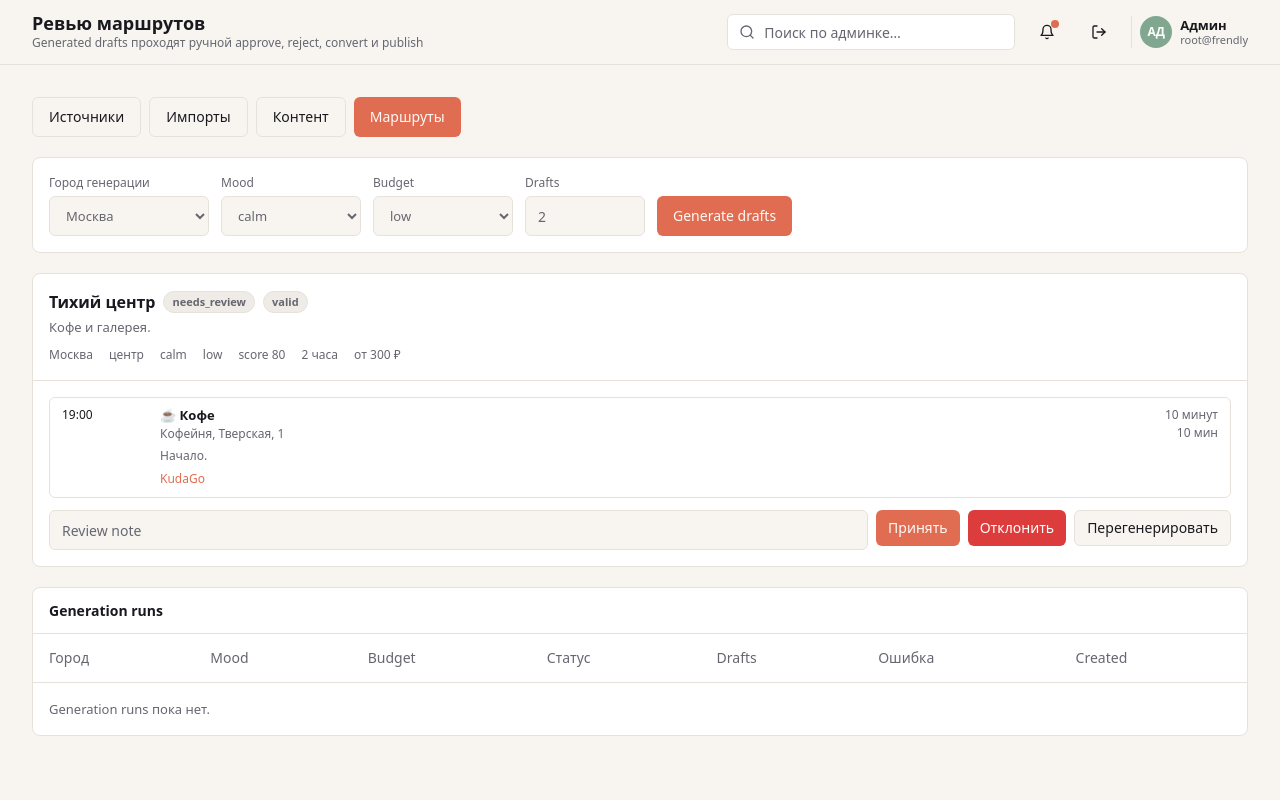
Test: RouteReviewQueue › renders the route draft workflow without route filters
The image size is (1280, 800).
Expected: the heading "Тихий центр" is shown, [49,290,156,314]
Expected: the text "Кофейня, Тверская, 1" is shown, [160,425,284,442]
Click the button "Контент" at [301, 117], box [256,97,346,137]
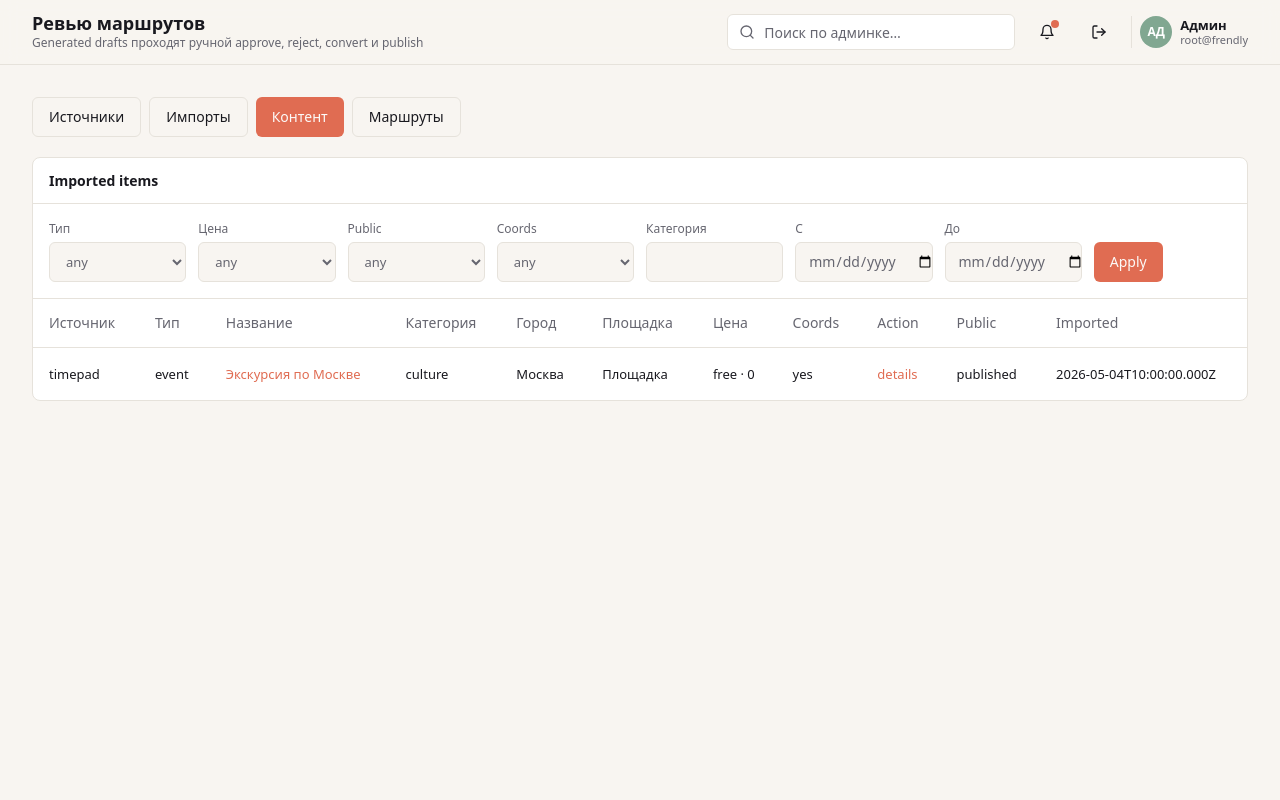
Expected: the link "Экскурсия по Москве" is shown
Click the link "Экскурсия по Москве" at [293, 374], box [226,364,361,382]
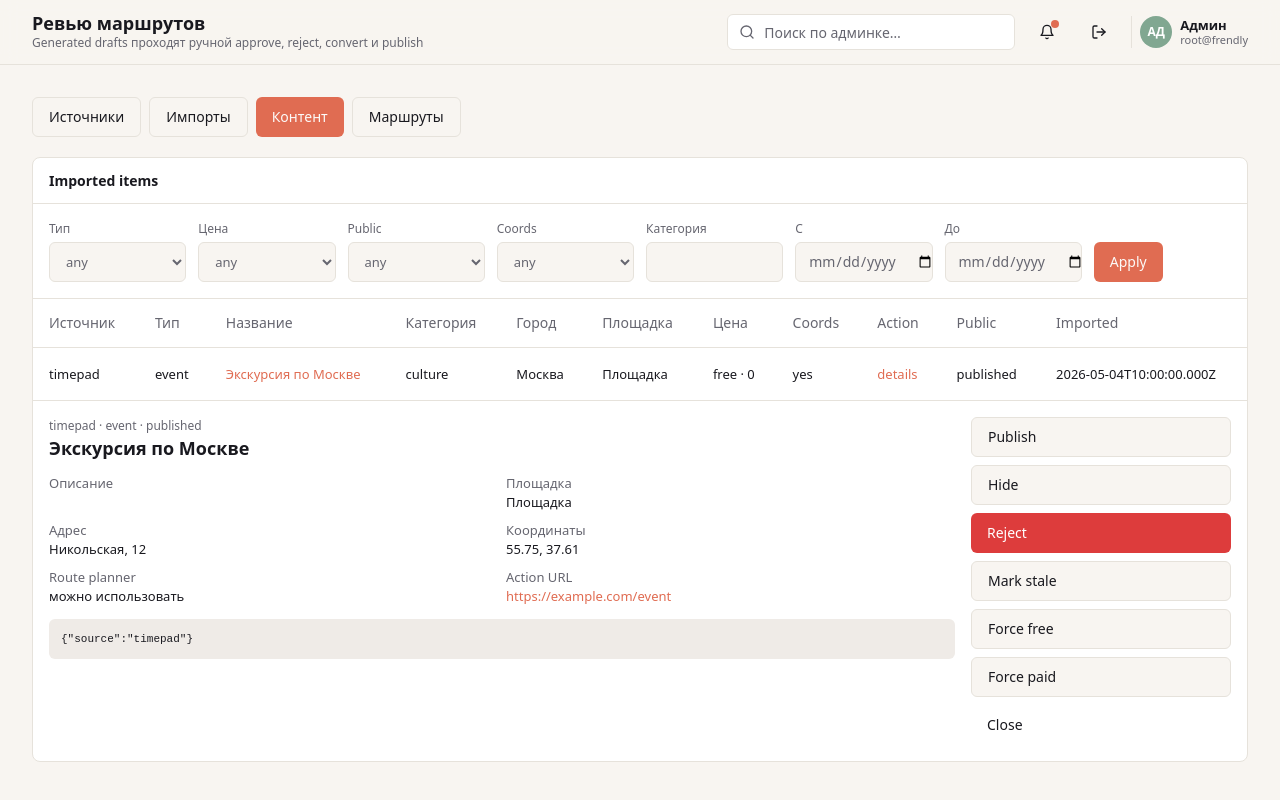
Expected: the text "Route planner" is shown, [49,568,136,586]
Expected: the button "Hide" is enabled, [971,464,1231,504]
